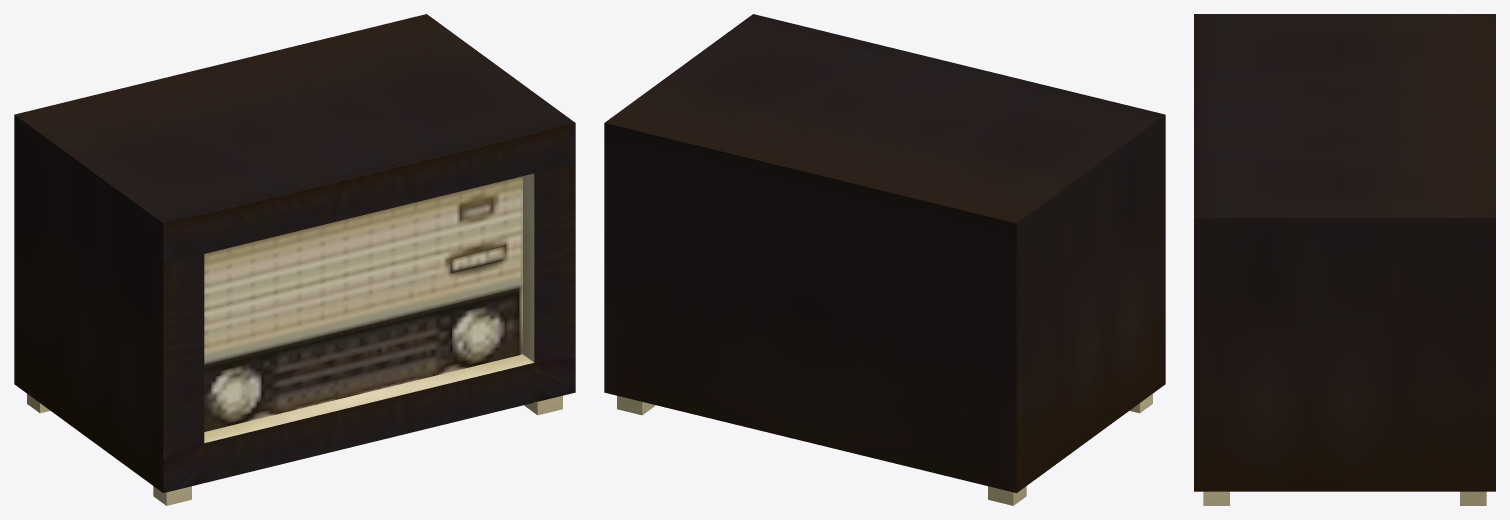
Rendered from Radio.fbx.
3 views of the same model, side by side, from view 1: azimuth 30°, elevation 25°; view 2: azimuth 150°, elevation 25°; view 3: azimuth 270°, elevation 25° (orthographic).
Parts seen in each view (by area): view 1: Cube; view 2: Cube; view 3: Cube.
Part boxes in pixels (x1=…): Cube: x1=14, y1=14, x2=575, y2=505; Cube: x1=604, y1=14, x2=1165, y2=505; Cube: x1=1194, y1=14, x2=1495, y2=505.
Size of the model in its own units: 320 by 213 by 200.
Materials: 1 (1 with a texture image).
